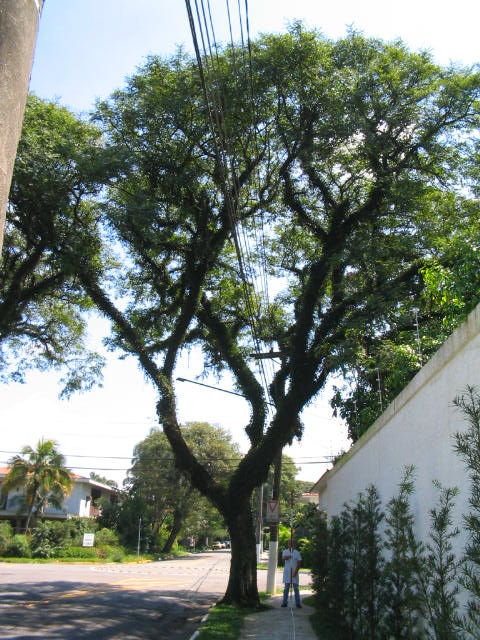crown: (50, 17, 480, 391)
stem: (207, 513, 271, 608)
stick: (284, 490, 300, 608)
tree: (46, 14, 479, 610)
